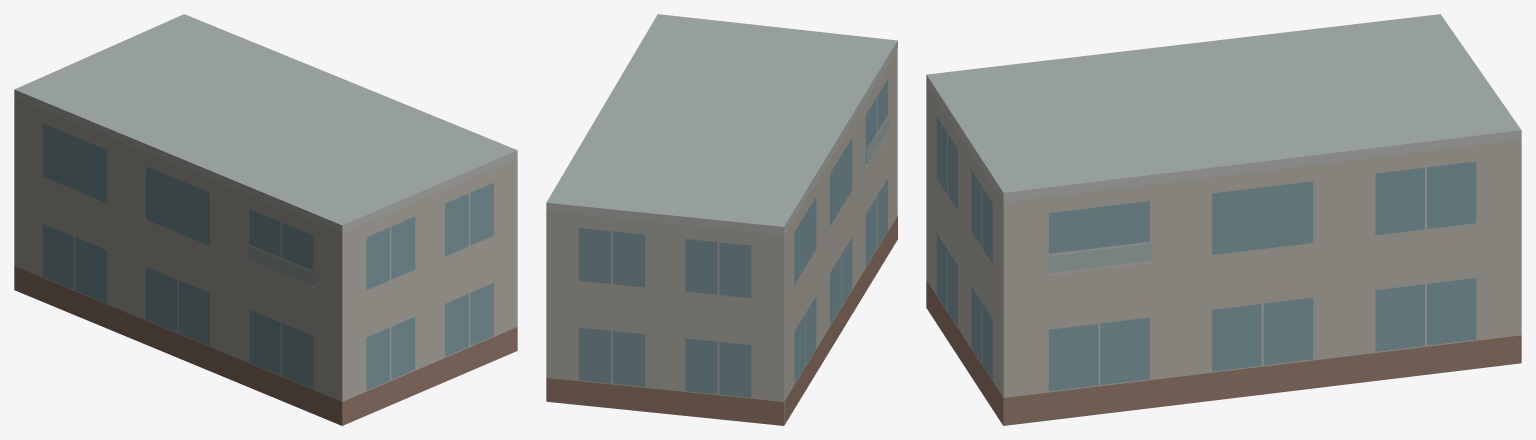
The model's file is survey-upis-32722138.glb.
3 views of the same model, side by side, from view 1: azimuth 30°, elevation 25°; view 2: azimuth 150°, elevation 25°; view 3: azimuth 270°, elevation 25° (orthographic). The views are drawn at different scales.
Parts seen in each view (by area): view 1: survey-upis-32722138.tmp; view 2: survey-upis-32722138.tmp; view 3: survey-upis-32722138.tmp.
Part boxes in pixels (x1,y1,x2,y2): survey-upis-32722138.tmp: (14,14,517,425); survey-upis-32722138.tmp: (546,14,897,425); survey-upis-32722138.tmp: (926,14,1521,425).
Size of the model in its own units: 10.05 by 6.1 by 14.13.
